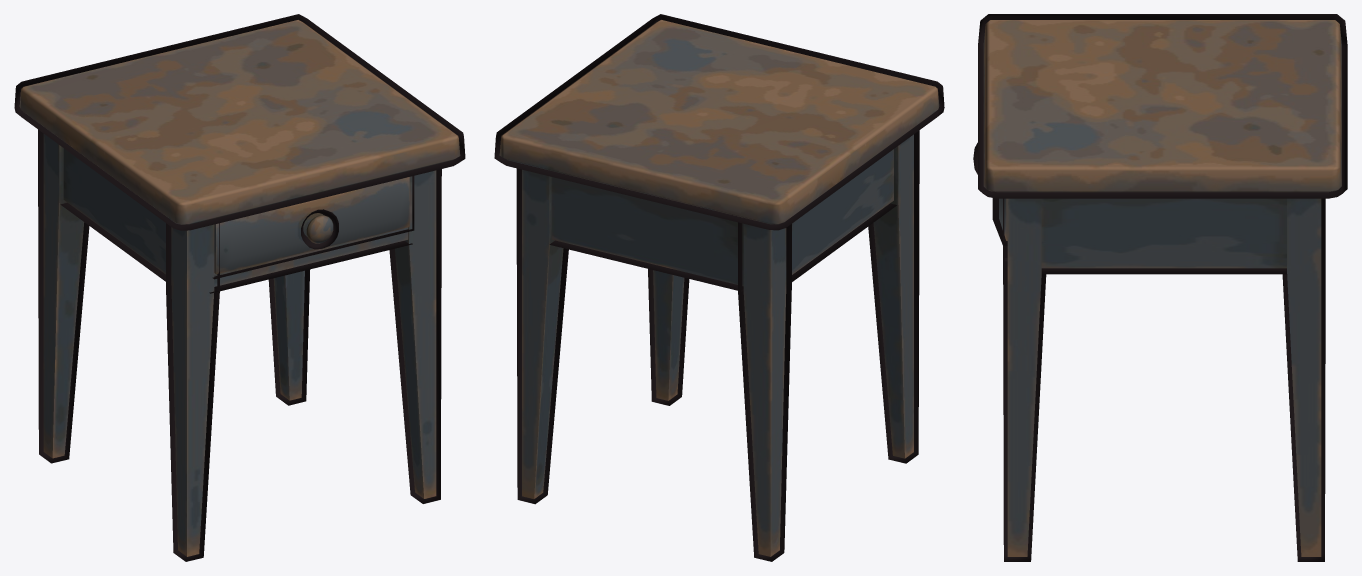
The model's file is SM_Int_NightstandB.fbx.
3 views of the same model, side by side, from view 1: azimuth 30°, elevation 25°; view 2: azimuth 150°, elevation 25°; view 3: azimuth 270°, elevation 25° (orthographic). The views are drawn at different scales.
Visible parts, largest first — view 1: SM_Int_NightstandB; view 2: SM_Int_NightstandB; view 3: SM_Int_NightstandB.
Part boxes in pixels (x1=…): SM_Int_NightstandB: x1=14, y1=14, x2=465, y2=561; SM_Int_NightstandB: x1=494, y1=14, x2=944, y2=561; SM_Int_NightstandB: x1=973, y1=14, x2=1347, y2=561.
Size of what is drawn, in the model's own units: 0.4654 by 0.5621 by 0.4698.
